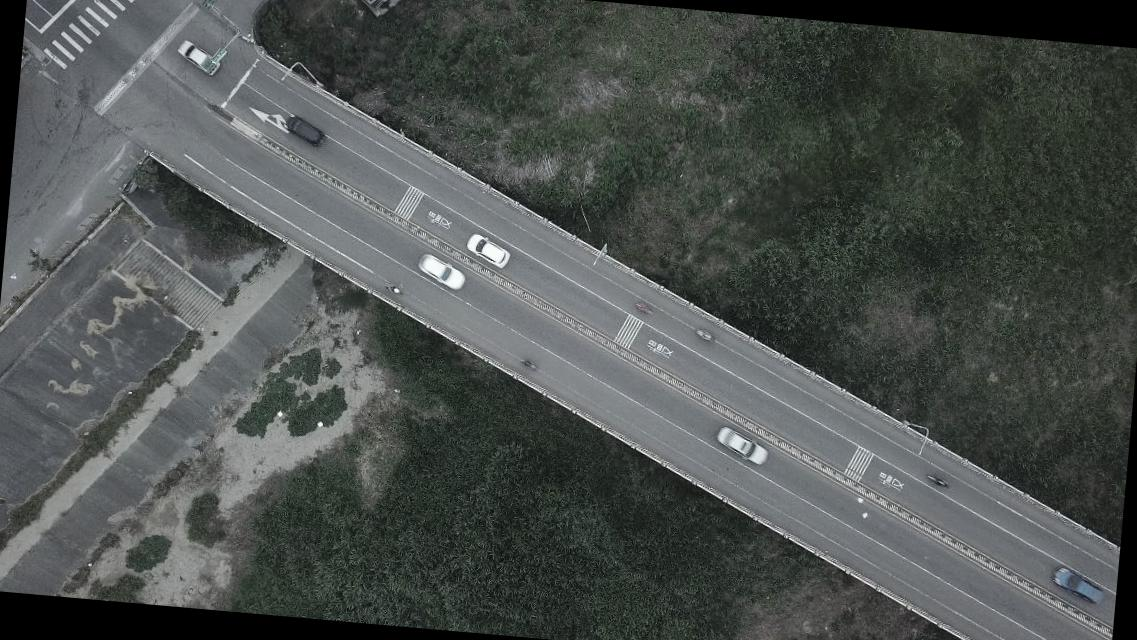vehicle: (1048, 564, 1106, 606), (711, 426, 770, 467), (412, 253, 467, 290), (173, 38, 224, 77), (462, 230, 510, 268), (282, 116, 328, 150)
